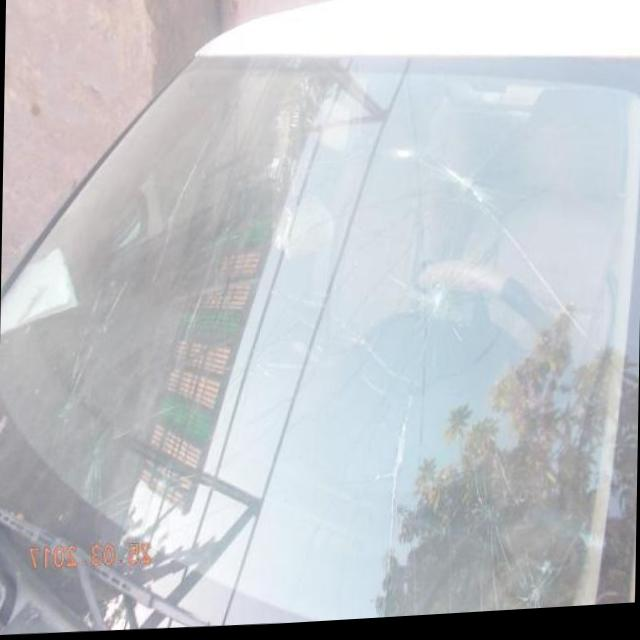Car-Damage: (58, 273, 128, 353), (452, 467, 509, 556), (182, 216, 240, 301), (432, 147, 494, 223), (72, 413, 125, 500), (417, 273, 462, 355), (40, 382, 70, 456), (153, 207, 180, 271), (512, 575, 551, 616)
